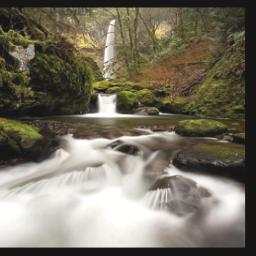Sparrow: (7, 44, 36, 71)
